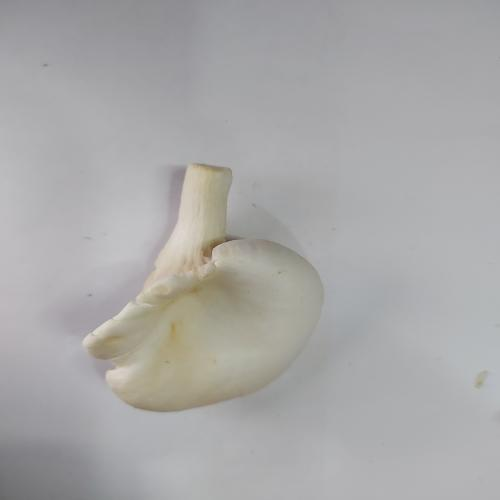Oyster Mushroom: (81, 162, 325, 412)
